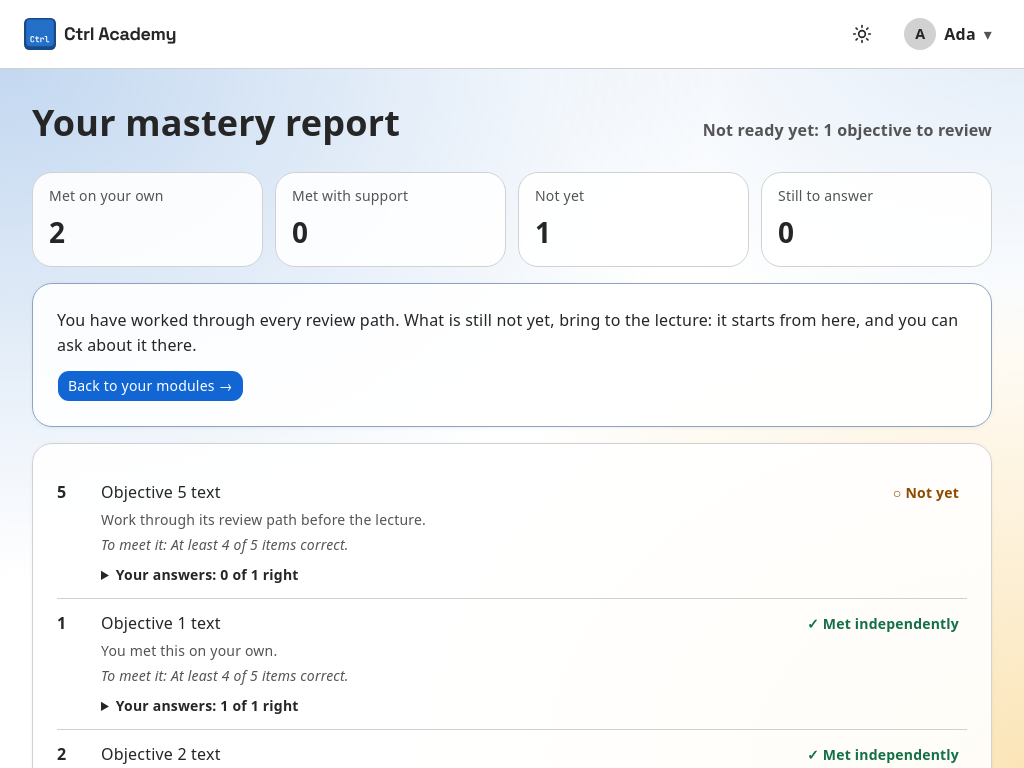
Test case: ReportPage › lists each mastery check answer with its result and why, once the check is finished
Check: the heading "Your mastery report" is shown, box [32,101,400,144]
Click the heading "Your answers: 0 of 1 right" at (250, 574), box [116,564,383,584]
(page scrolled)
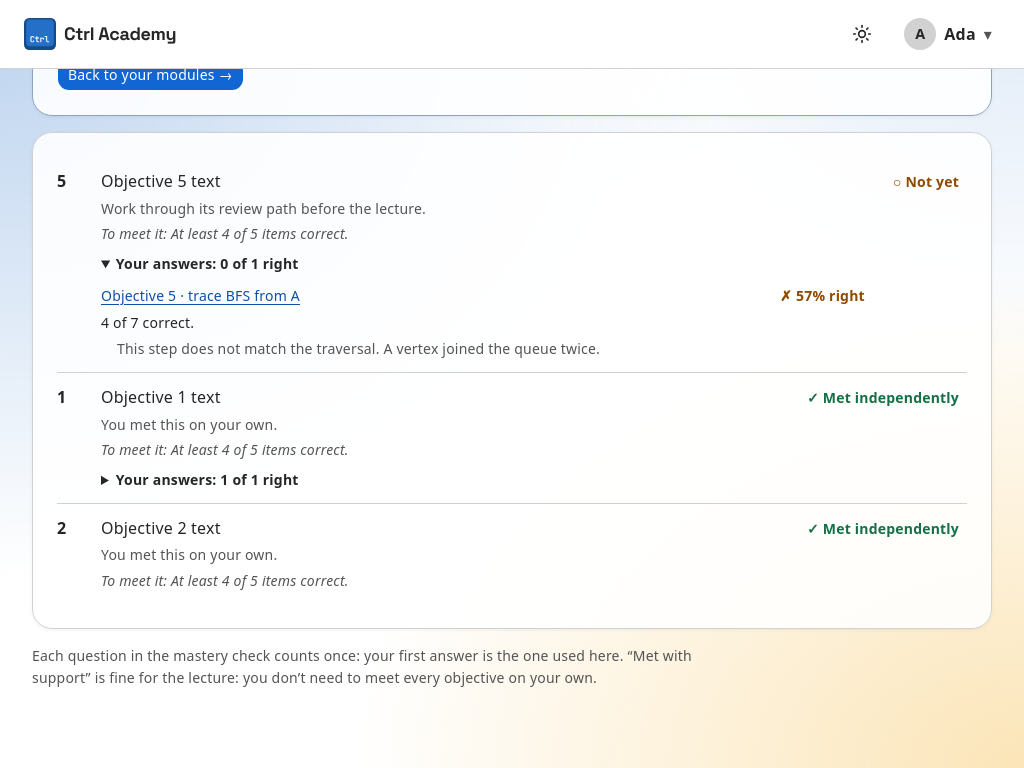
Check: the text "57% right" is shown, box [796,286,865,305]
Check: the text "4 of 7 correct." is shown, box [101,313,194,332]
Check: the list item "A vertex joined the queue twice" is shown, box [117,339,600,358]
Click the heading "Your answers: 1 of 1 right" at (250, 479), box [116,469,383,489]
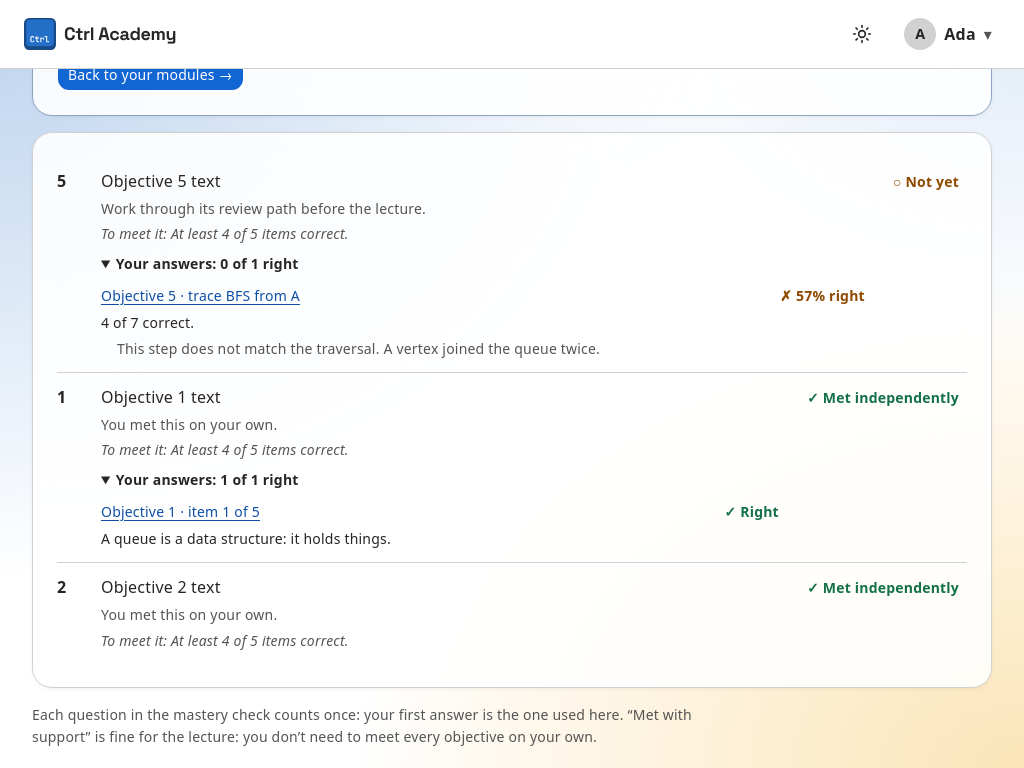
Check: the text "Right" is shown, box [740,502,779,521]
Check: the text "A queue is a data structure: it holds things." is shown, box [101,529,391,548]
